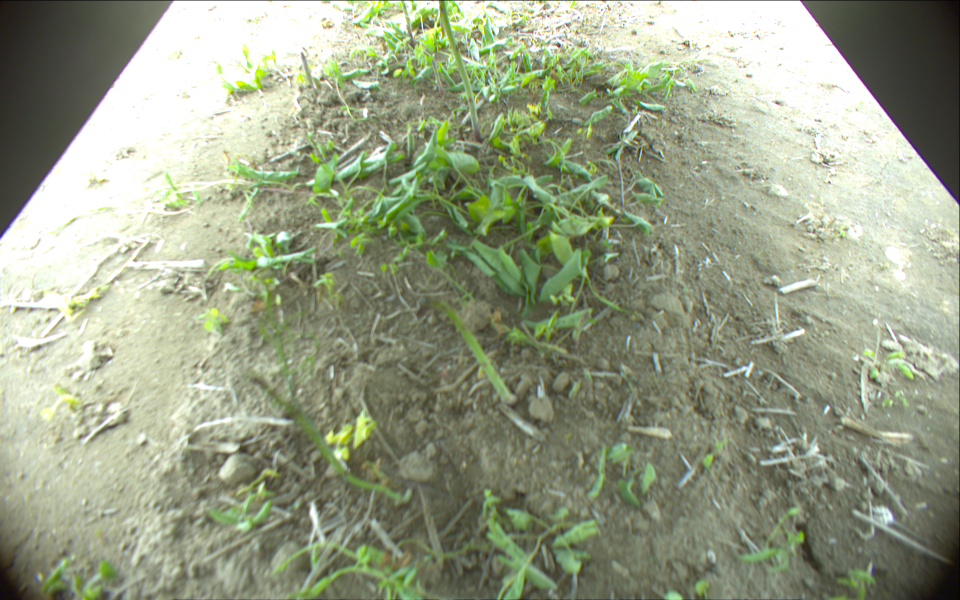aspa: (250, 373, 404, 501), (425, 292, 517, 402), (435, 1, 484, 135), (399, 1, 415, 44), (299, 51, 315, 88)
